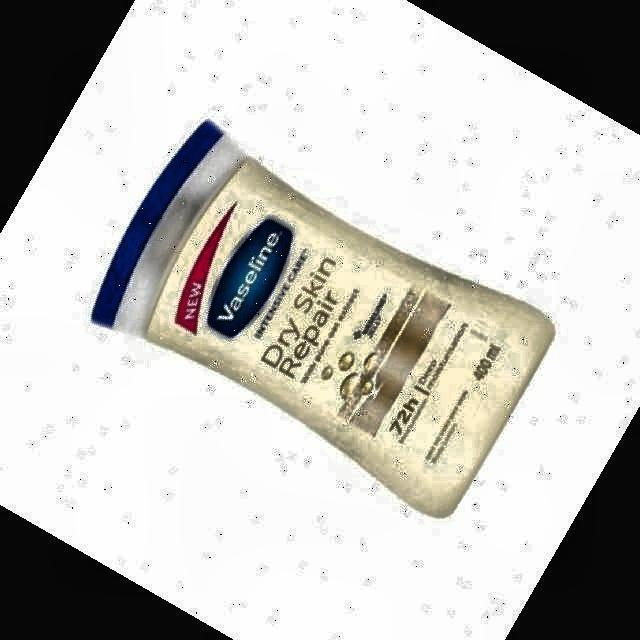plastic: (91, 120, 552, 515)
